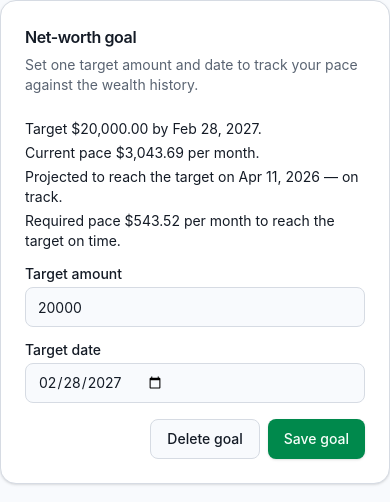
Test: GoalPanel › deletes the active goal and hides the projection
Expected: the text "Current pace $3,043.69 per month." is shown, x1=25 y1=144 x2=260 y2=161
Click the button "Delete goal".
click(205, 439)  # box x1=150 y1=419 x2=260 y2=459
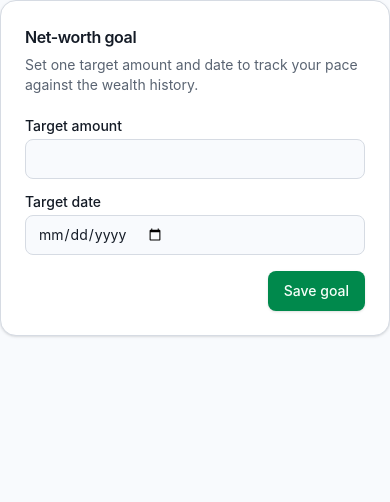
Result: the text "Current pace" is gone
Result: the number field labelled "Target amount" is not empty at x1=25 y1=139 x2=365 y2=179
Result: the date field labelled "Target date" is empty at x1=25 y1=215 x2=365 y2=255
